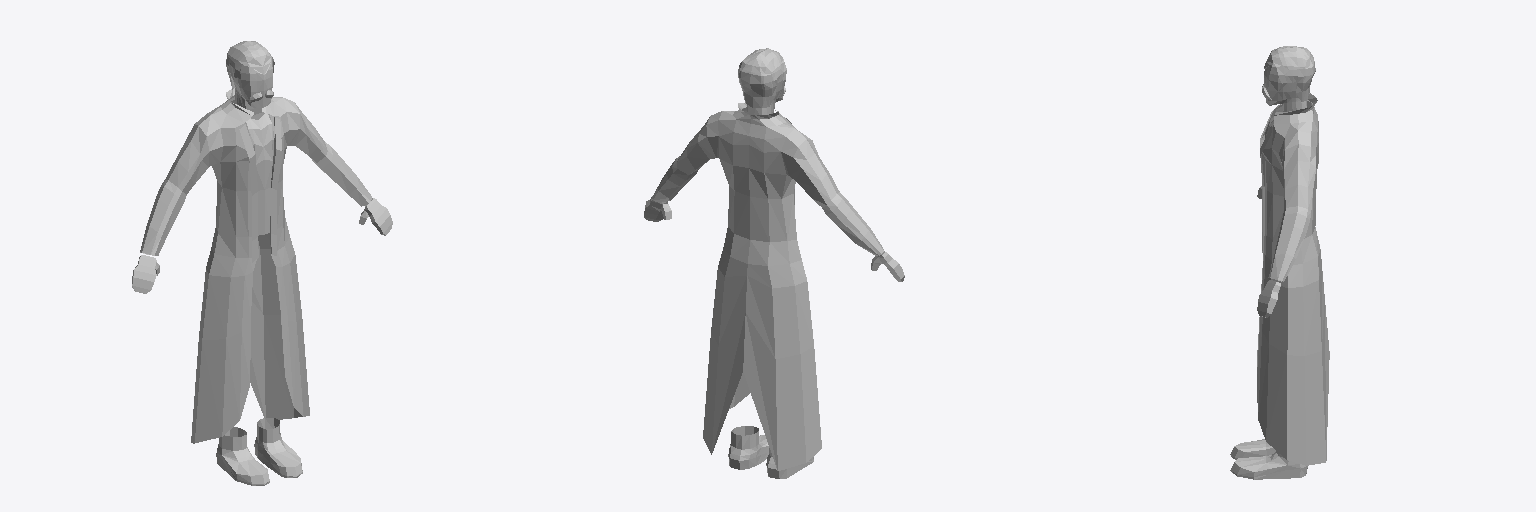
The model's file is jack.obj.
3 views of the same model, side by side, from view 1: azimuth 30°, elevation 25°; view 2: azimuth 150°, elevation 25°; view 3: azimuth 270°, elevation 25° (orthographic).
Parts seen in each view (by area): view 1: jackmerge_Cube.058; view 2: jackmerge_Cube.058; view 3: jackmerge_Cube.058.
Part boxes in pixels (left/top/right/bottom): jackmerge_Cube.058: left=132, top=41, right=392, bottom=485; jackmerge_Cube.058: left=644, top=48, right=904, bottom=478; jackmerge_Cube.058: left=1230, top=46, right=1329, bottom=479.
Bounding box in the file's own units: 1.31 × 2.01 × 0.4331.